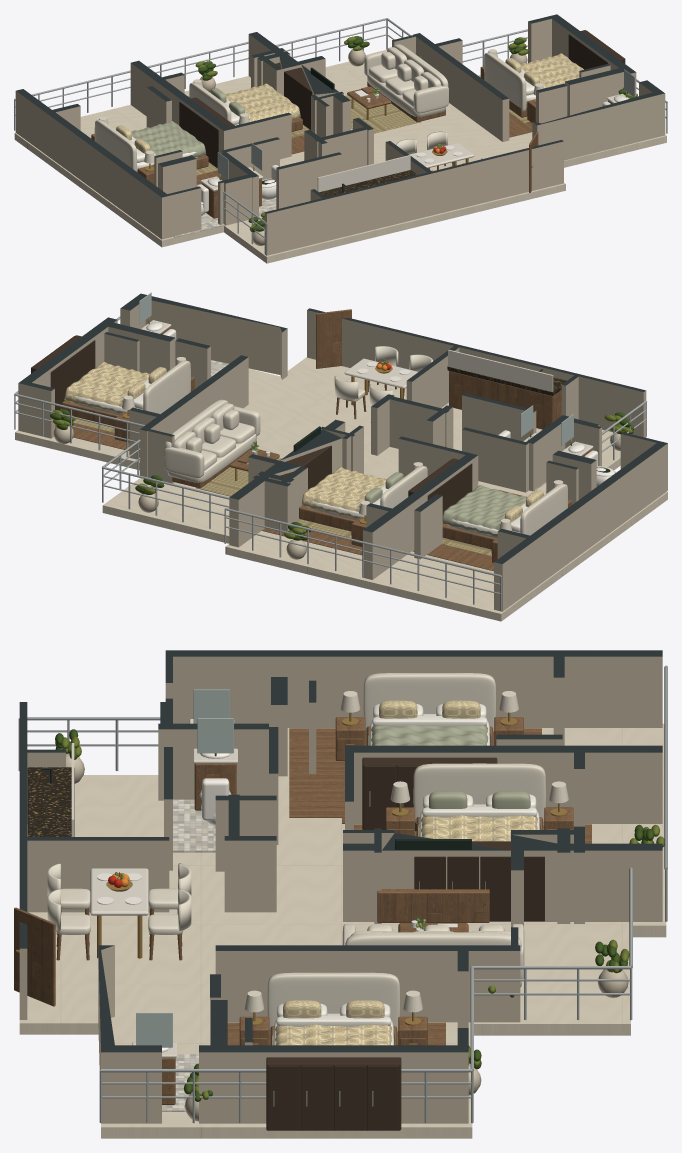
3 views of the same model, one above another, from view 1: azimuth 30°, elevation 25°; view 2: azimuth 150°, elevation 25°; view 3: azimuth 270°, elevation 25° (orthographic). The views are drawn at different scales.
Visible parts, largest first — view 1: Source-traced internal and perimeter walls • Wall, Continuous apartment foundation, Soft jacquard duvet with folds.001, Soft jacquard duvet with folds.002, Backsplash, Padded headboard, Fitted dark wardrobe.002, Soft jacquard duvet with folds, Living patterned carpet, Padded headboard.002, Fitted dark wardrobe.001, Fitted dark wardrobe (+9 smaller); view 2: Source-traced internal and perimeter walls • Wall, Continuous apartment foundation, Base cabinets, Soft jacquard duvet with folds, Soft jacquard duvet with folds.001, Soft jacquard duvet with folds.002, Backsplash, Fitted dark wardrobe, Padded headboard, Oak entrance door, Padded headboard.002, Fitted dark wardrobe.002 (+16 smaller); view 3: Source-traced internal and perimeter walls • Wall, Continuous apartment foundation, Full bedroom wood flooring.002, Padded headboard, Padded headboard.001, Padded headboard.002, Walnut media console, Deep green kitchen stone, Oak entrance door, Soft jacquard duvet with folds.001, Soft jacquard duvet with folds, Soft jacquard duvet with folds.002 (+28 smaller).
Boxes of the visible parts, x1,y1,x2,y2 form: Source-traced internal and perimeter walls • Wall: (15,14,665,255); Continuous apartment foundation: (14,61,666,263); Soft jacquard duvet with folds.001: (225,83,300,121); Soft jacquard duvet with folds.002: (131,121,206,164); Backsplash: (317,155,410,192); Padded headboard: (484,52,526,112); Fitted dark wardrobe.002: (179,97,234,167); Soft jacquard duvet with folds: (520,53,583,87); Living patterned carpet: (345,95,420,133); Padded headboard.002: (94,119,136,171); Fitted dark wardrobe.001: (275,62,312,129); Fitted dark wardrobe: (568,30,624,69); Source-traced internal and perimeter walls • Wall: (18,293,667,611); Continuous apartment foundation: (15,357,667,621); Base cabinets: (449,371,561,429); Soft jacquard duvet with folds: (64,362,149,413); Soft jacquard duvet with folds.001: (301,467,386,519); Soft jacquard duvet with folds.002: (442,485,526,536); Backsplash: (448,350,553,391); Fitted dark wardrobe: (31,335,95,410); Padded headboard: (143,360,190,413); Oak entrance door: (316,309,351,368); Padded headboard.002: (520,483,567,535); Fitted dark wardrobe.002: (408,458,472,515); Source-traced internal and perimeter walls • Wall: (19,650,662,1123); Continuous apartment foundation: (19,723,666,1138); Full bedroom wood flooring.002: (289,728,541,817); Padded headboard: (267,972,399,1032); Padded headboard.001: (413,763,545,823); Padded headboard.002: (363,673,495,732); Walnut media console: (377,889,489,922); Deep green kitchen stone: (27,767,74,836); Oak entrance door: (14,907,55,1006); Soft jacquard duvet with folds.001: (418,815,540,841); Soft jacquard duvet with folds: (272,1024,395,1045); Soft jacquard duvet with folds.002: (368,724,491,745).
Bounding box in the file's own units: 13.85 × 1.7 × 9.32.
26 materials, 6 textured.
